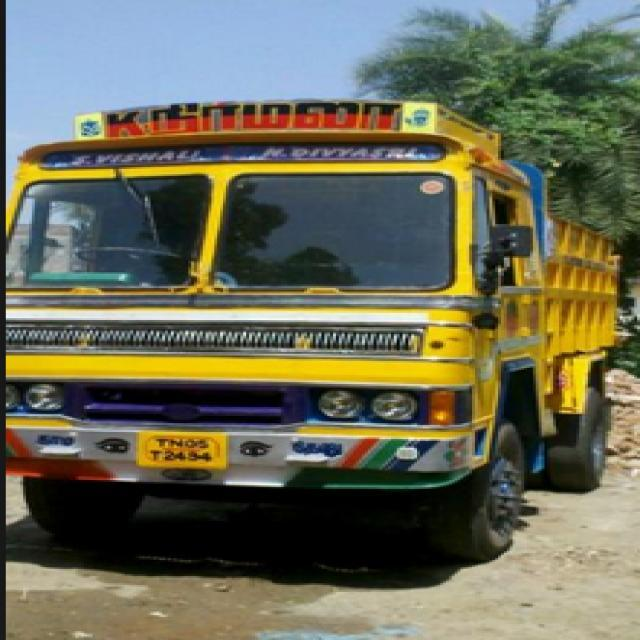truck_front: (16, 56, 624, 582)
